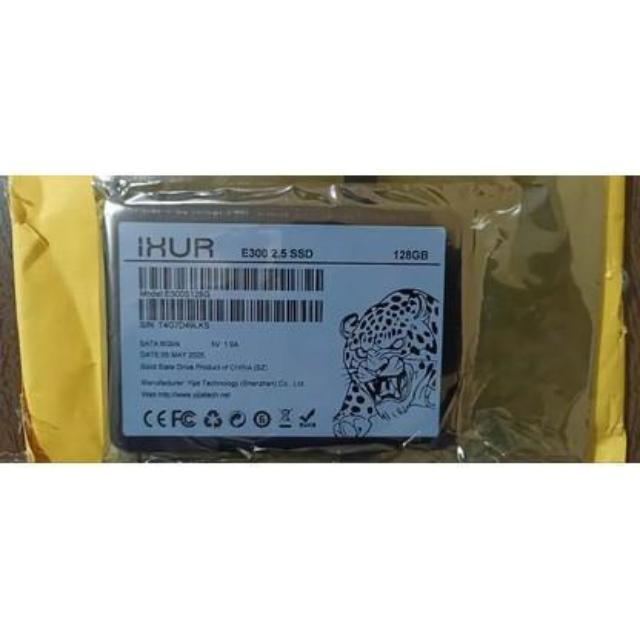DISK: (100, 204, 452, 446)
